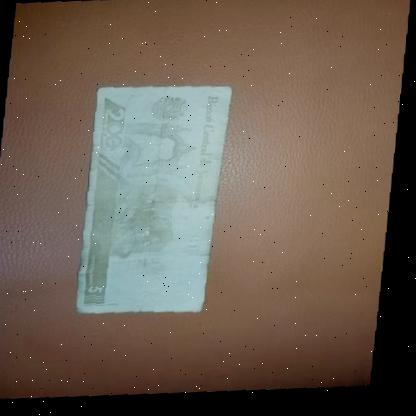five-back-vef: (75, 79, 238, 324)
